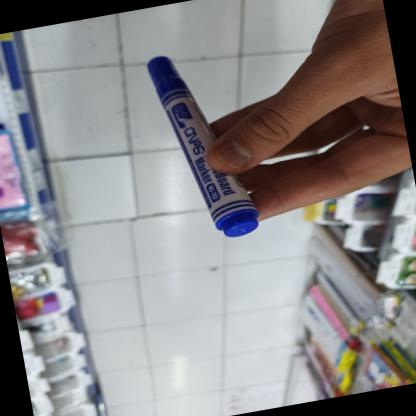pencil: (142, 40, 258, 246)
